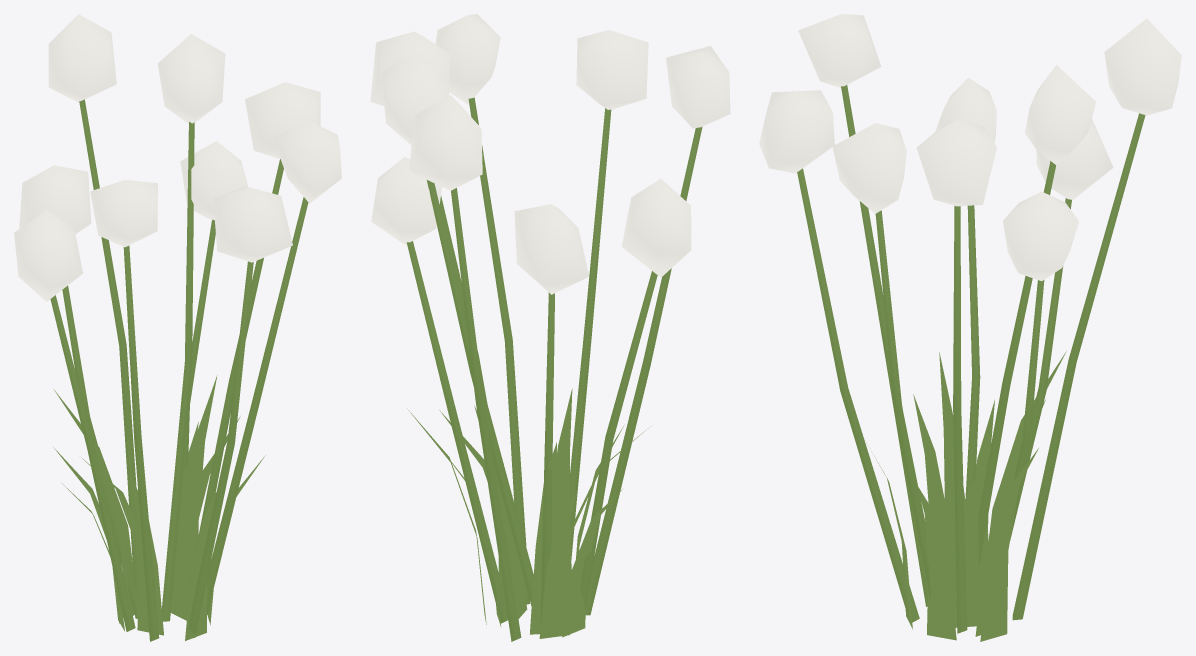
File: Blender_Cottongrass_1.glb
The picture shows the model from 3 angles, left to right: view 1: azimuth 30°, elevation 25°; view 2: azimuth 150°, elevation 25°; view 3: azimuth 270°, elevation 25°; orthographic projection. The views are drawn at different scales.
Parts seen in each view (by area): view 1: Blender_Cottongrass_1; view 2: Blender_Cottongrass_1; view 3: Blender_Cottongrass_1.
Boxes of the visible parts, <box> form: Blender_Cottongrass_1: <box>14,14,341,641</box>; Blender_Cottongrass_1: <box>370,14,730,641</box>; Blender_Cottongrass_1: <box>759,14,1181,641</box>.
Size of the model in its own units: 0.2779 by 0.4896 by 0.312.
